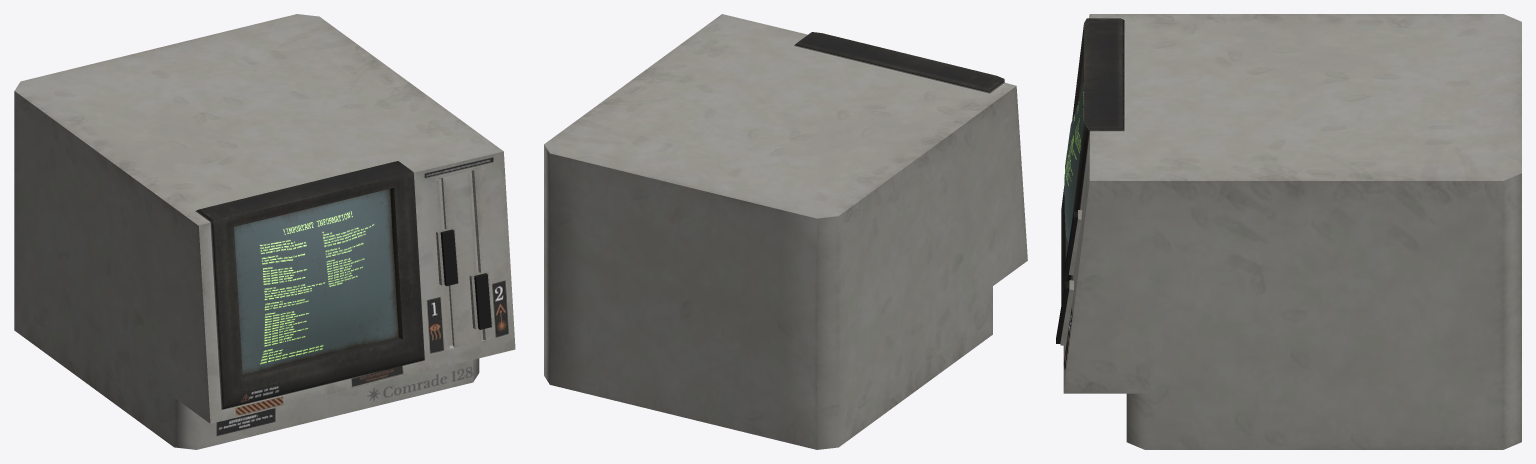
Rendered from crt_computer.glb.
The picture shows the model from 3 angles, left to right: view 1: azimuth 30°, elevation 25°; view 2: azimuth 150°, elevation 25°; view 3: azimuth 270°, elevation 25°; orthographic projection. The views are drawn at different scales.
Parts seen in each view (by area): view 1: Object_2, Object_3, Object_4; view 2: Object_2; view 3: Object_2, Object_3, Object_4.
Boxes of the visible parts, <box> form: Object_2: <box>14,14,515,449</box>; Object_3: <box>234,189,398,374</box>; Object_4: <box>436,228,492,329</box>; Object_2: <box>544,14,1027,449</box>; Object_2: <box>1061,14,1521,449</box>; Object_3: <box>1064,82,1083,243</box>; Object_4: <box>1056,210,1082,345</box>.
Size of the model in its own units: 0.4245 by 0.3226 by 0.5.
Materials: 3 (3 with a texture image).
